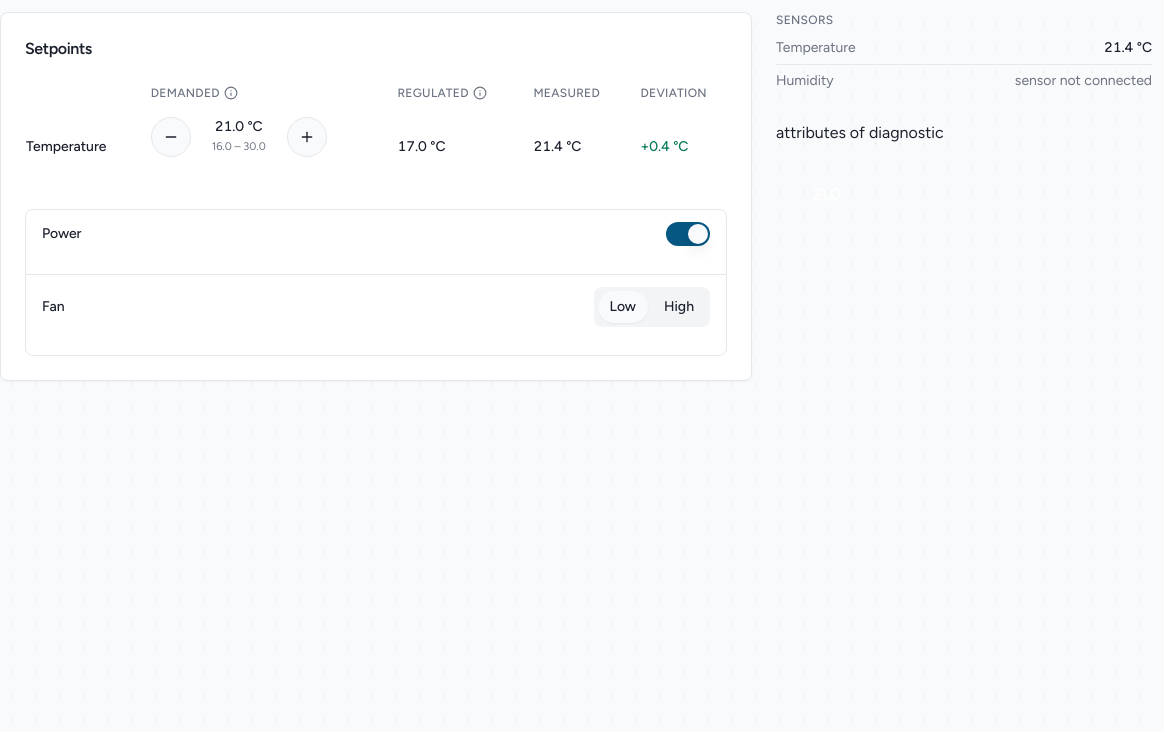
Scenario: DevicePresentation › explains a column from its header hint with the driver description behind it
The image size is (1164, 732).
Step 1. Hover over the button named "Description: Regulated" → (480, 93), box x1=473 y1=86 x2=487 y2=100
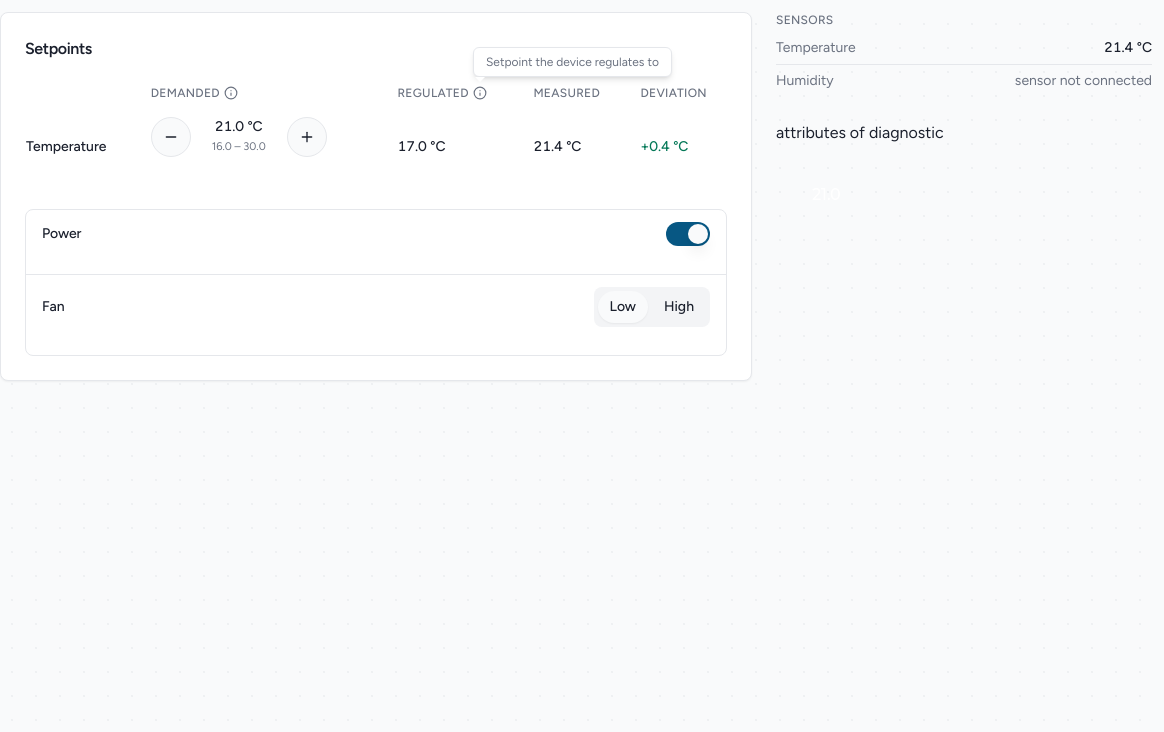
Expected: the tooltip does not show "Temperature", x1=473 y1=47 x2=672 y2=77
Expected: the tooltip reads "Setpoint the device regulates to", x1=486 y1=55 x2=659 y2=69
